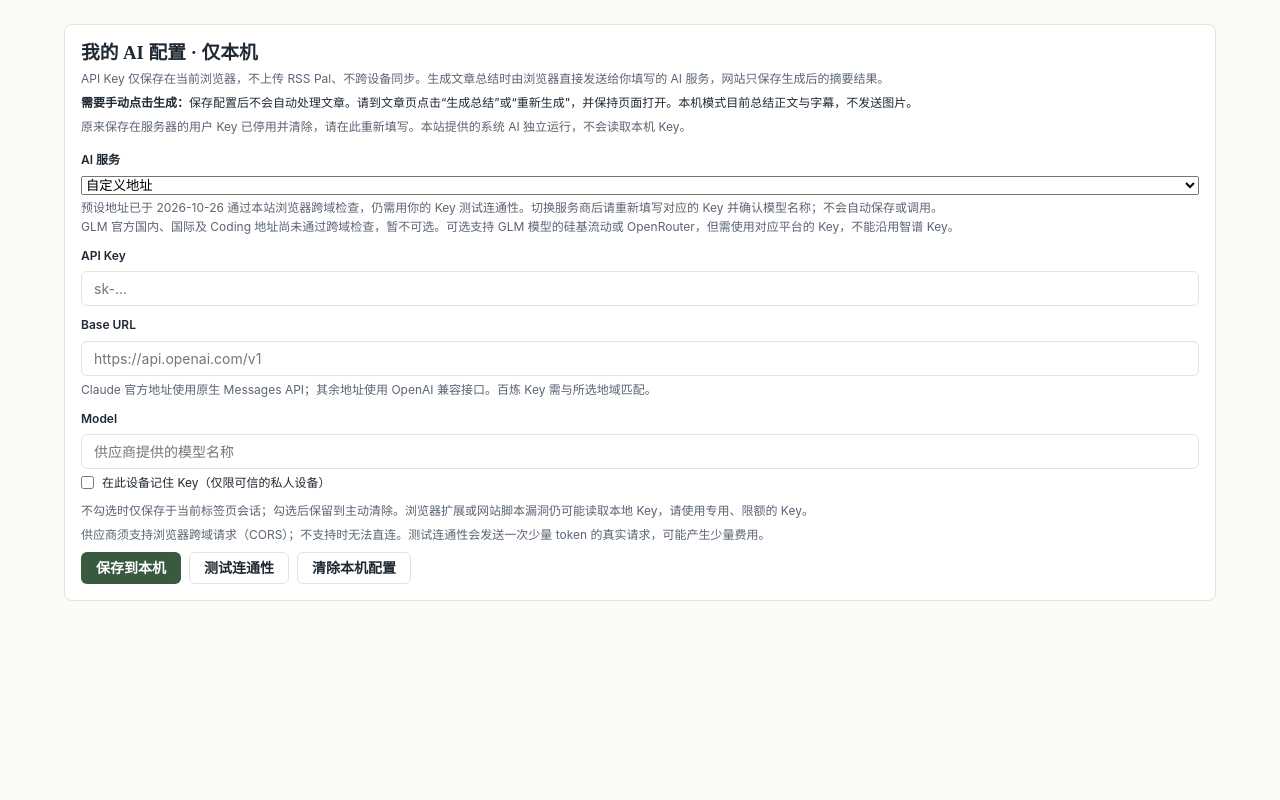
Test case: saves a key locally without any request and explains manual generation
Type "local-secret" into the password field labelled "API Key". click: (640, 289)
box: [81,272,1199,306]
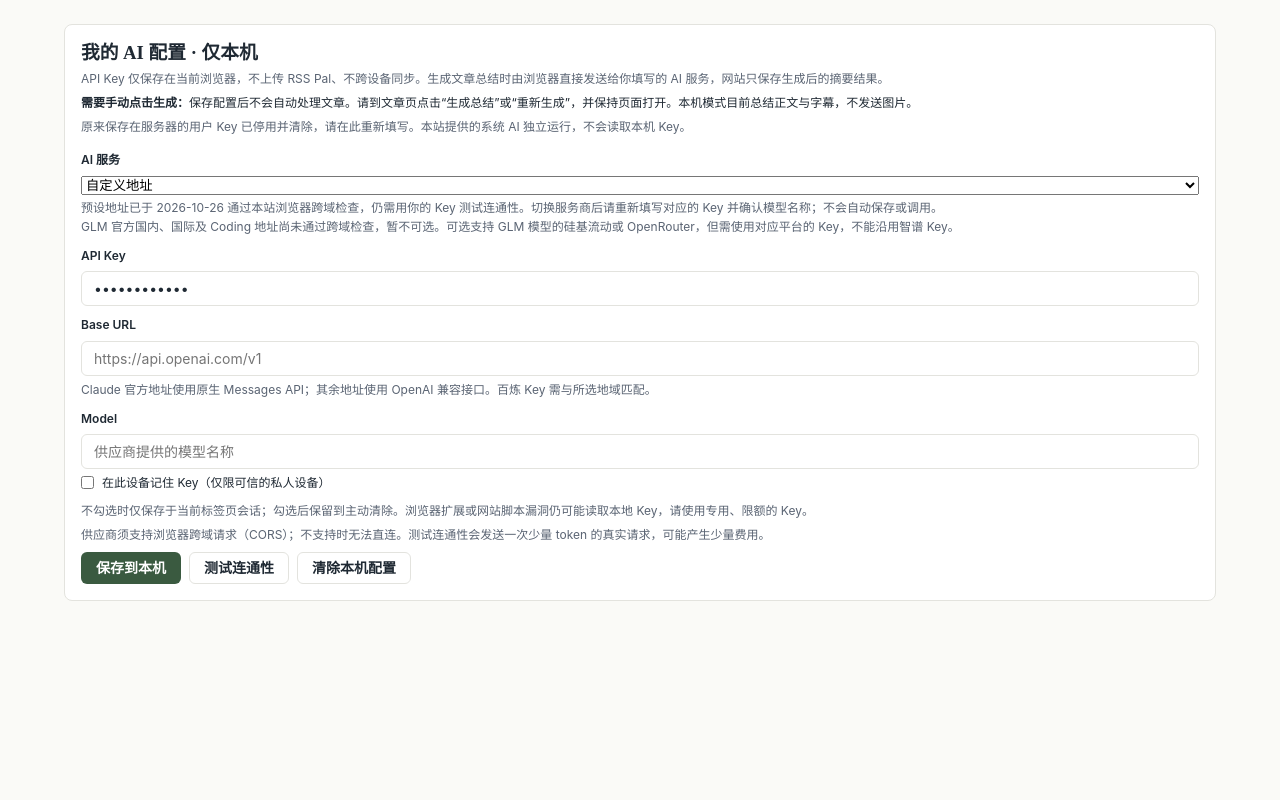
Type "https://provider.example/v1" into the field labelled "Base URL". click: (640, 358)
box: [81,341,1199,376]
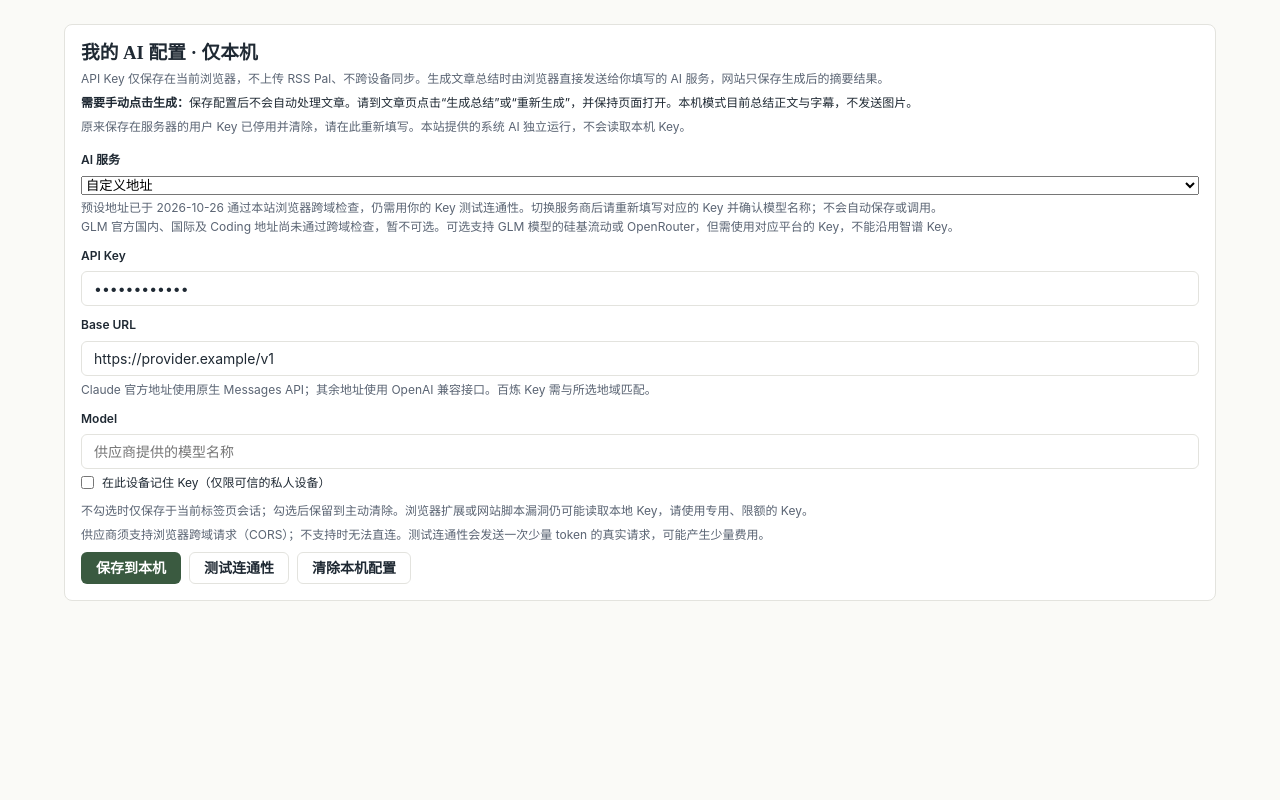
Type "model" into the field labelled "Model". click: (640, 452)
box: [81,434,1199,469]
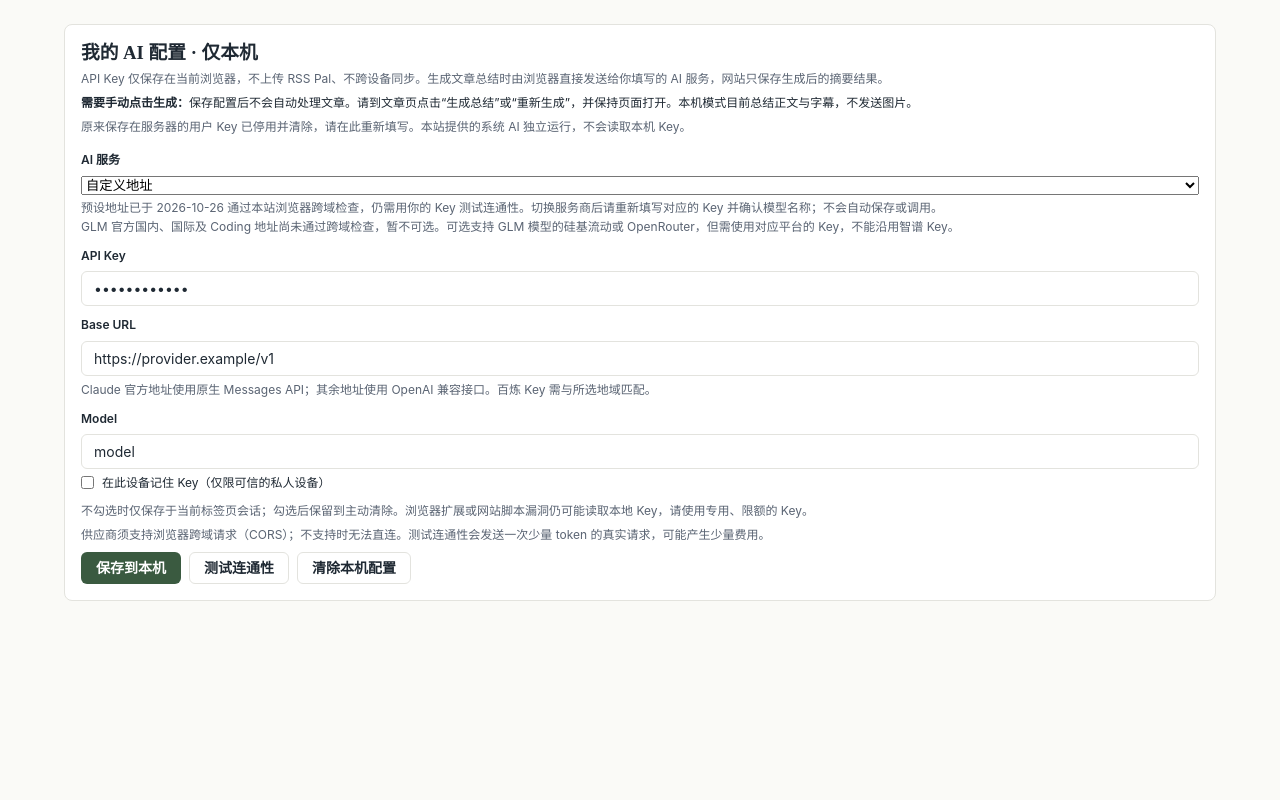
Click the button "保存到本机". click: (131, 568)
box: [81,552,181,584]
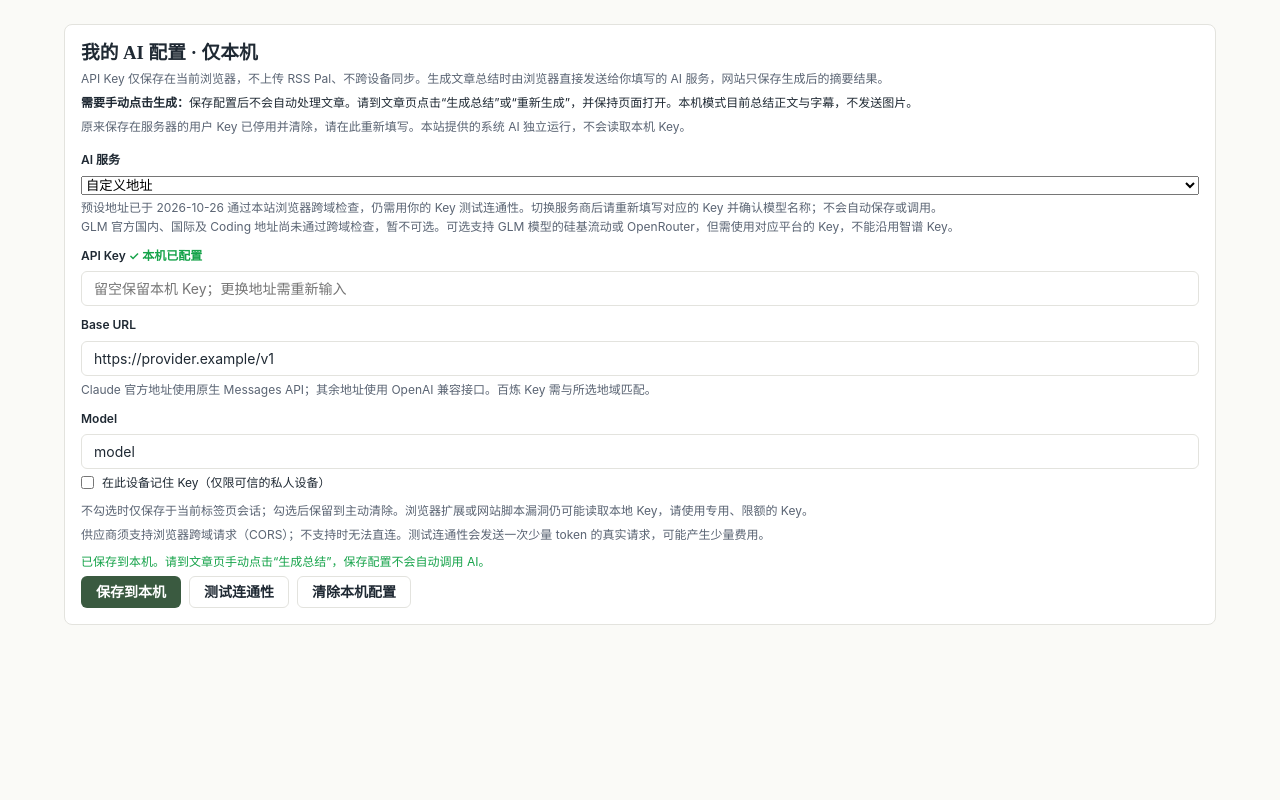
Expected: the message shows "手动点击", [81,554,490,570]
Expected: the password field labelled "API Key ✓ 本机已配置" is empty, [81,272,1199,306]
